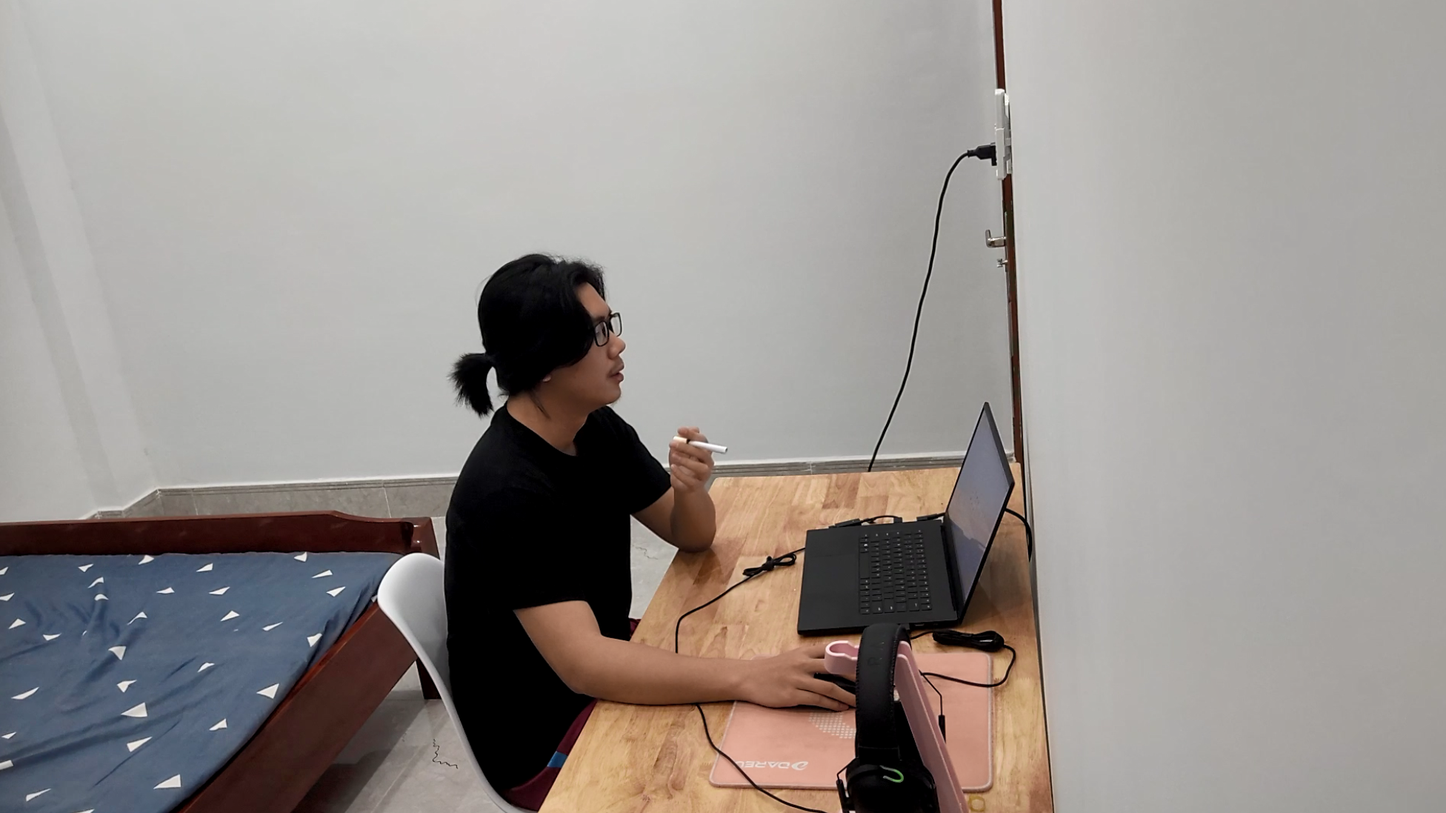cigarette: (662, 431, 730, 464)
person: (428, 240, 735, 746)
